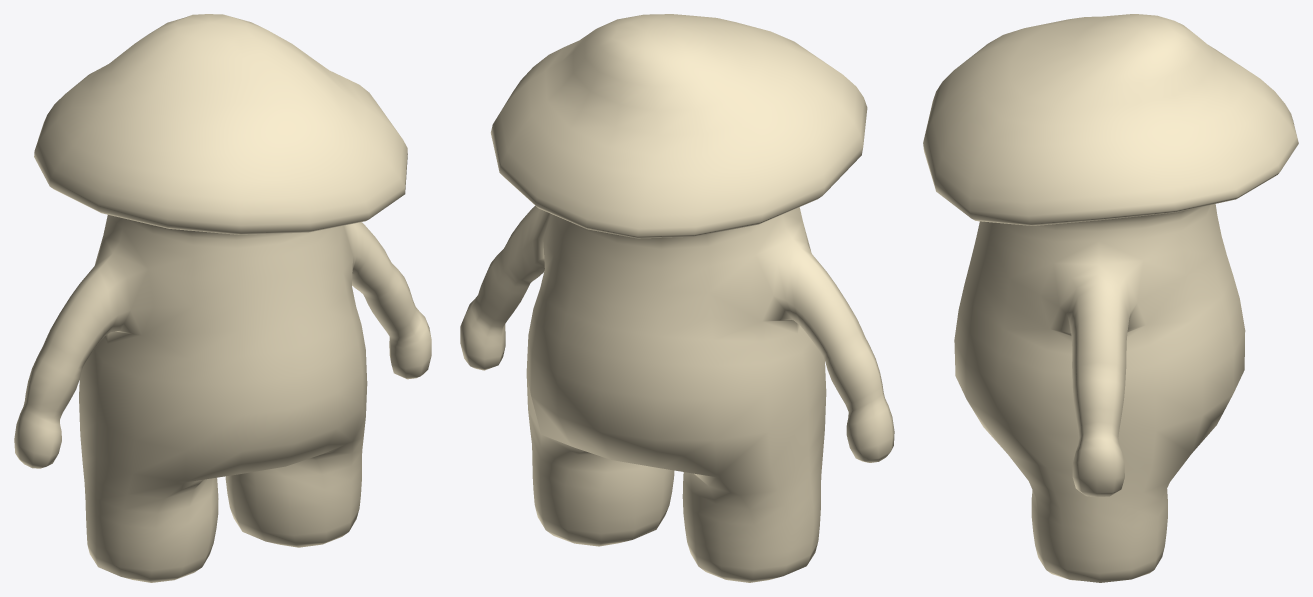
Rendered from rigged_mush.fbx.
The picture shows the model from 3 angles, left to right: view 1: azimuth 30°, elevation 25°; view 2: azimuth 150°, elevation 25°; view 3: azimuth 270°, elevation 25°; orthographic projection. The views are drawn at different scales.
Visible parts, largest first — view 1: Circle.001; view 2: Circle.001; view 3: Circle.001.
Boxes of the visible parts, <box> form: Circle.001: <box>14,14,431,582</box>; Circle.001: <box>460,14,894,582</box>; Circle.001: <box>923,14,1298,582</box>.
Size of the model in its own units: 654 by 771 by 518.
